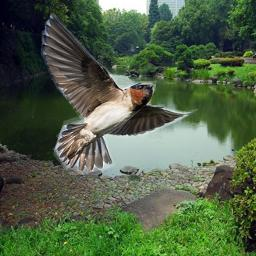Swallow: (40, 13, 198, 175)
